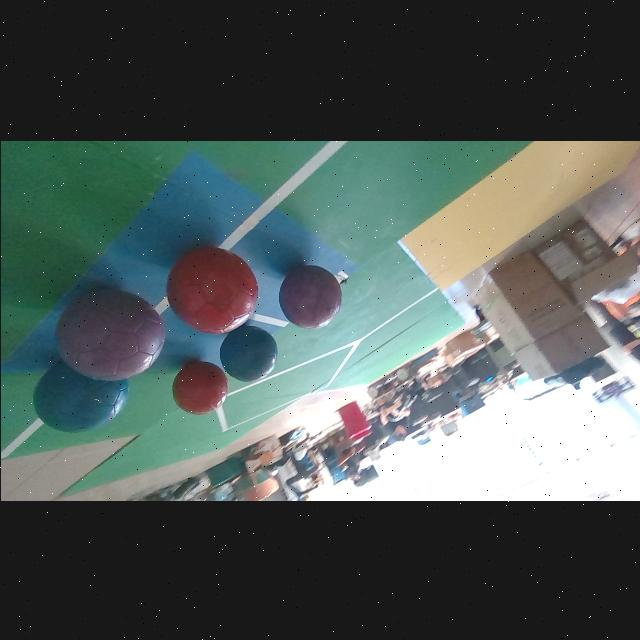B: (32, 361, 128, 431), (219, 324, 276, 382)
P: (55, 288, 164, 379), (278, 264, 340, 328)
R: (165, 246, 257, 333), (172, 359, 227, 414)
